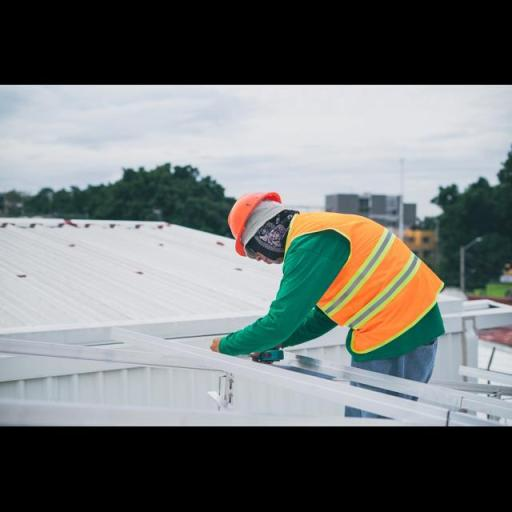Person: (173, 166, 497, 386)
helmet: (213, 188, 285, 261)
vest: (281, 210, 450, 358)
